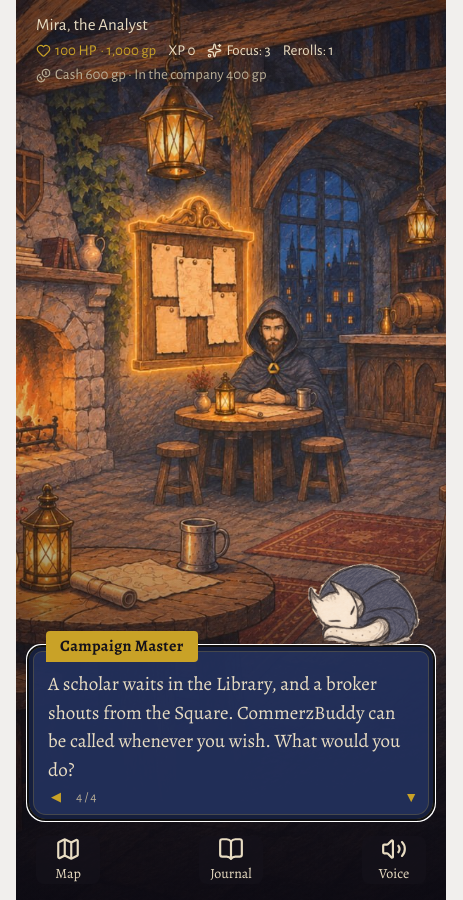
Scenario: PlayScreen: sending actions › a typed action is sent at once; the reply appears and the earlier turn is in the backlog
Earlier steps of the test are not shown.
Later steps or results of the test are not shown.
Click the element with test id "dialogue-box" at (231, 733), box [28, 646, 434, 820]
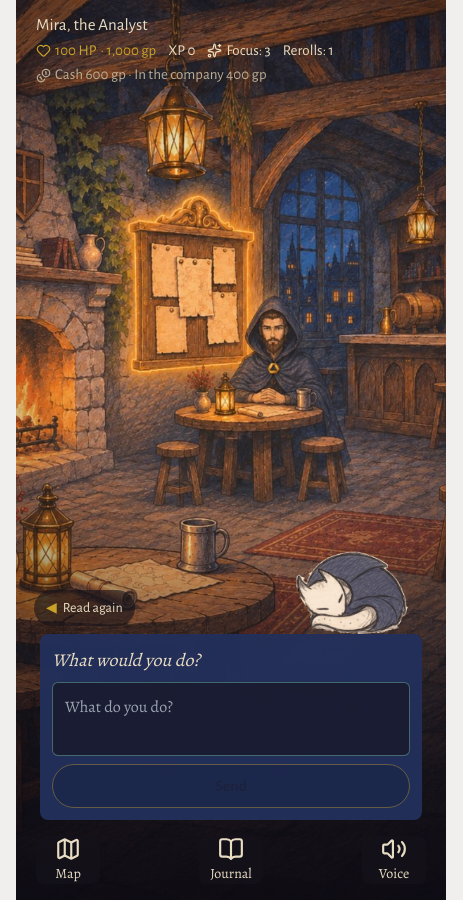
Type "Ask the barkeep what people say about the guild" into the text box at (231, 719), box [52, 682, 410, 756]
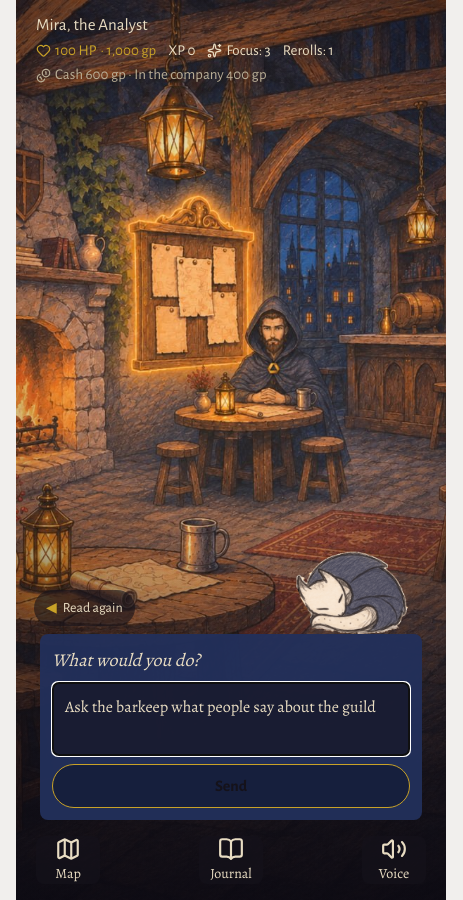
Click the button "Send" at (231, 786), box [52, 764, 410, 808]
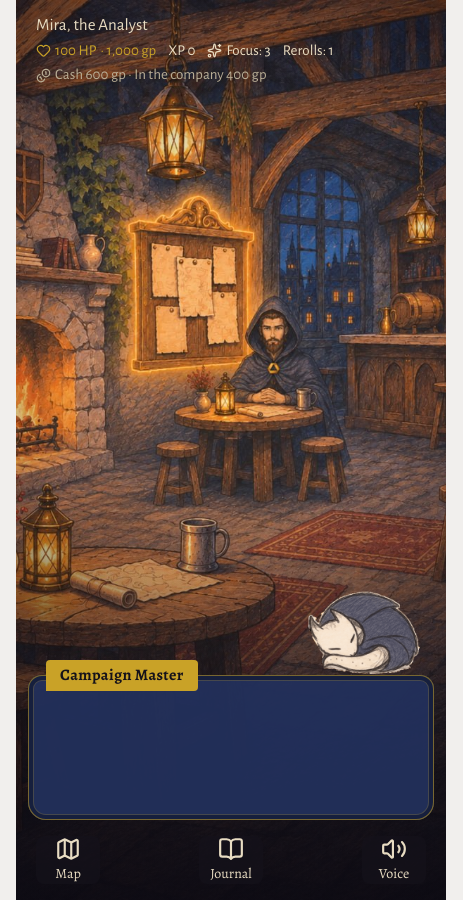
Result: the element with test id "dialogue-box" is shown at [28, 674, 434, 820]
